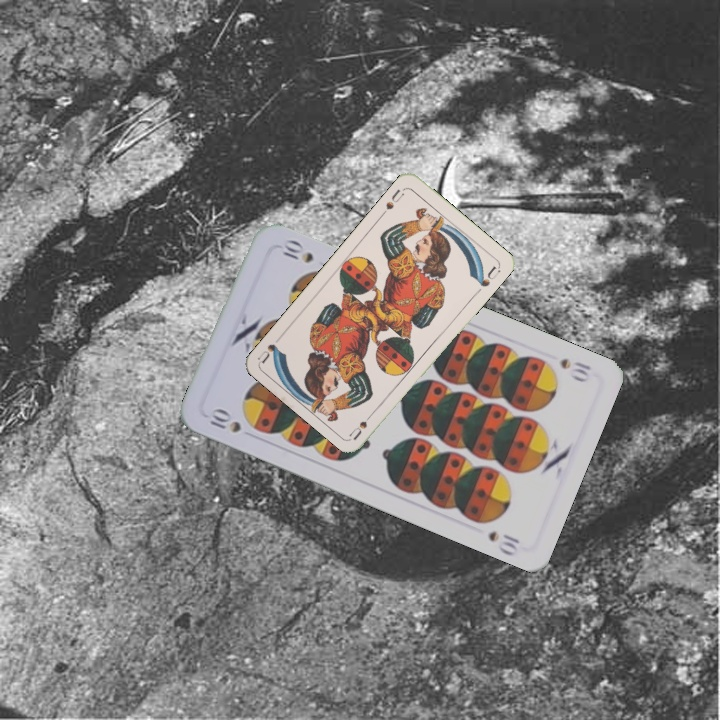S10: (204, 404, 244, 436), (556, 354, 594, 385)
SU: (346, 406, 378, 442), (378, 185, 407, 218)
